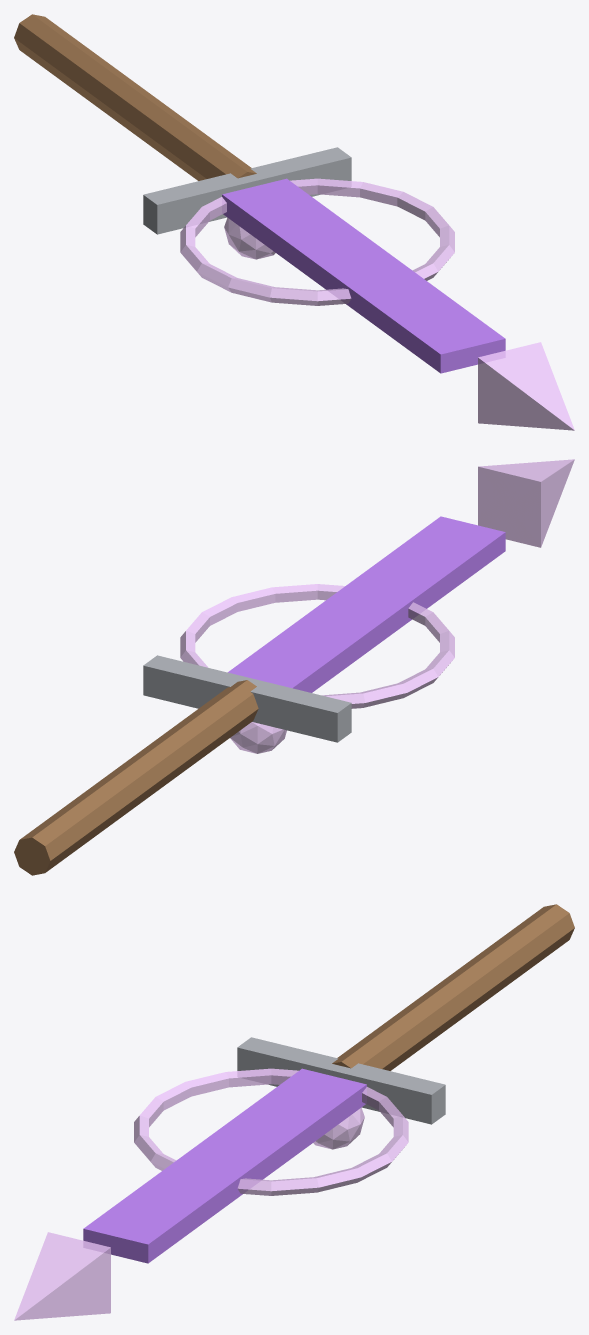
File: 03_magic_weapon_upgrade.glb
3 renders of one model, top to bottom at view 1: azimuth 30°, elevation 25°; view 2: azimuth 150°, elevation 25°; view 3: azimuth 330°, elevation 25°, orthographic.
Parts seen in each view (by area): view 1: enchanted_blade_or_focus, weapon_handle, rune_orbit, weapon_guard, weapon_tip, gem_socket; view 2: enchanted_blade_or_focus, weapon_handle, weapon_guard, weapon_tip, rune_orbit, gem_socket; view 3: enchanted_blade_or_focus, weapon_handle, rune_orbit, weapon_guard, weapon_tip, gem_socket.
Part boxes in pixels (x1,y1,x2,y2): enchanted_blade_or_focus: (222, 178, 505, 373); weapon_handle: (14, 14, 256, 180); rune_orbit: (180, 178, 454, 305); weapon_guard: (143, 147, 351, 234); weapon_tip: (478, 342, 574, 430); gem_socket: (224, 217, 275, 259); enchanted_blade_or_focus: (228, 516, 505, 692); weapon_handle: (14, 680, 258, 875); weapon_guard: (143, 655, 351, 742); weapon_tip: (478, 459, 574, 547); rune_orbit: (180, 584, 454, 708); gem_socket: (230, 722, 286, 753); enchanted_blade_or_focus: (83, 1068, 366, 1263); weapon_handle: (332, 904, 574, 1070); rune_orbit: (134, 1068, 408, 1195); weapon_guard: (237, 1037, 445, 1124); weapon_tip: (14, 1232, 110, 1320); gem_socket: (313, 1107, 364, 1149).
Bounding box in the file's own units: 0.596 × 0.2178 × 2.32.
